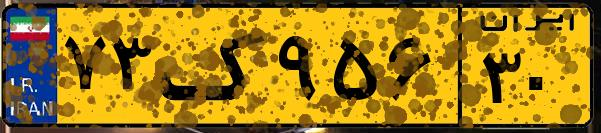0: (525, 38, 570, 115)
3: (475, 38, 525, 113), (110, 28, 158, 98)
5: (330, 28, 385, 110)
6: (385, 28, 445, 110)
7: (57, 26, 110, 100)
9: (270, 28, 330, 110)
ک: (158, 12, 270, 120)
